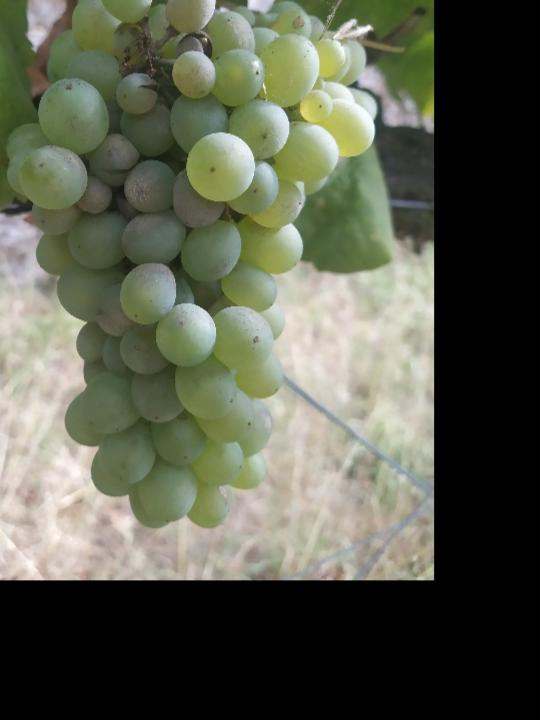grape: (1, 0, 378, 529)
